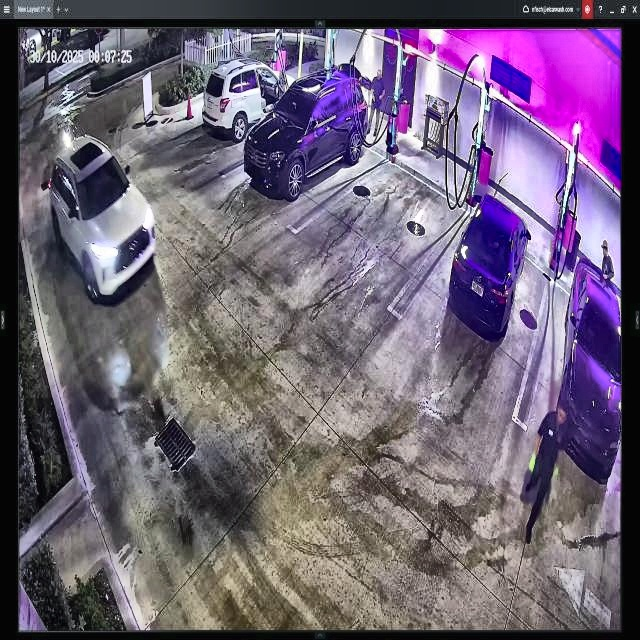Car: (51, 138, 157, 301), (244, 70, 368, 202), (448, 195, 530, 337)
